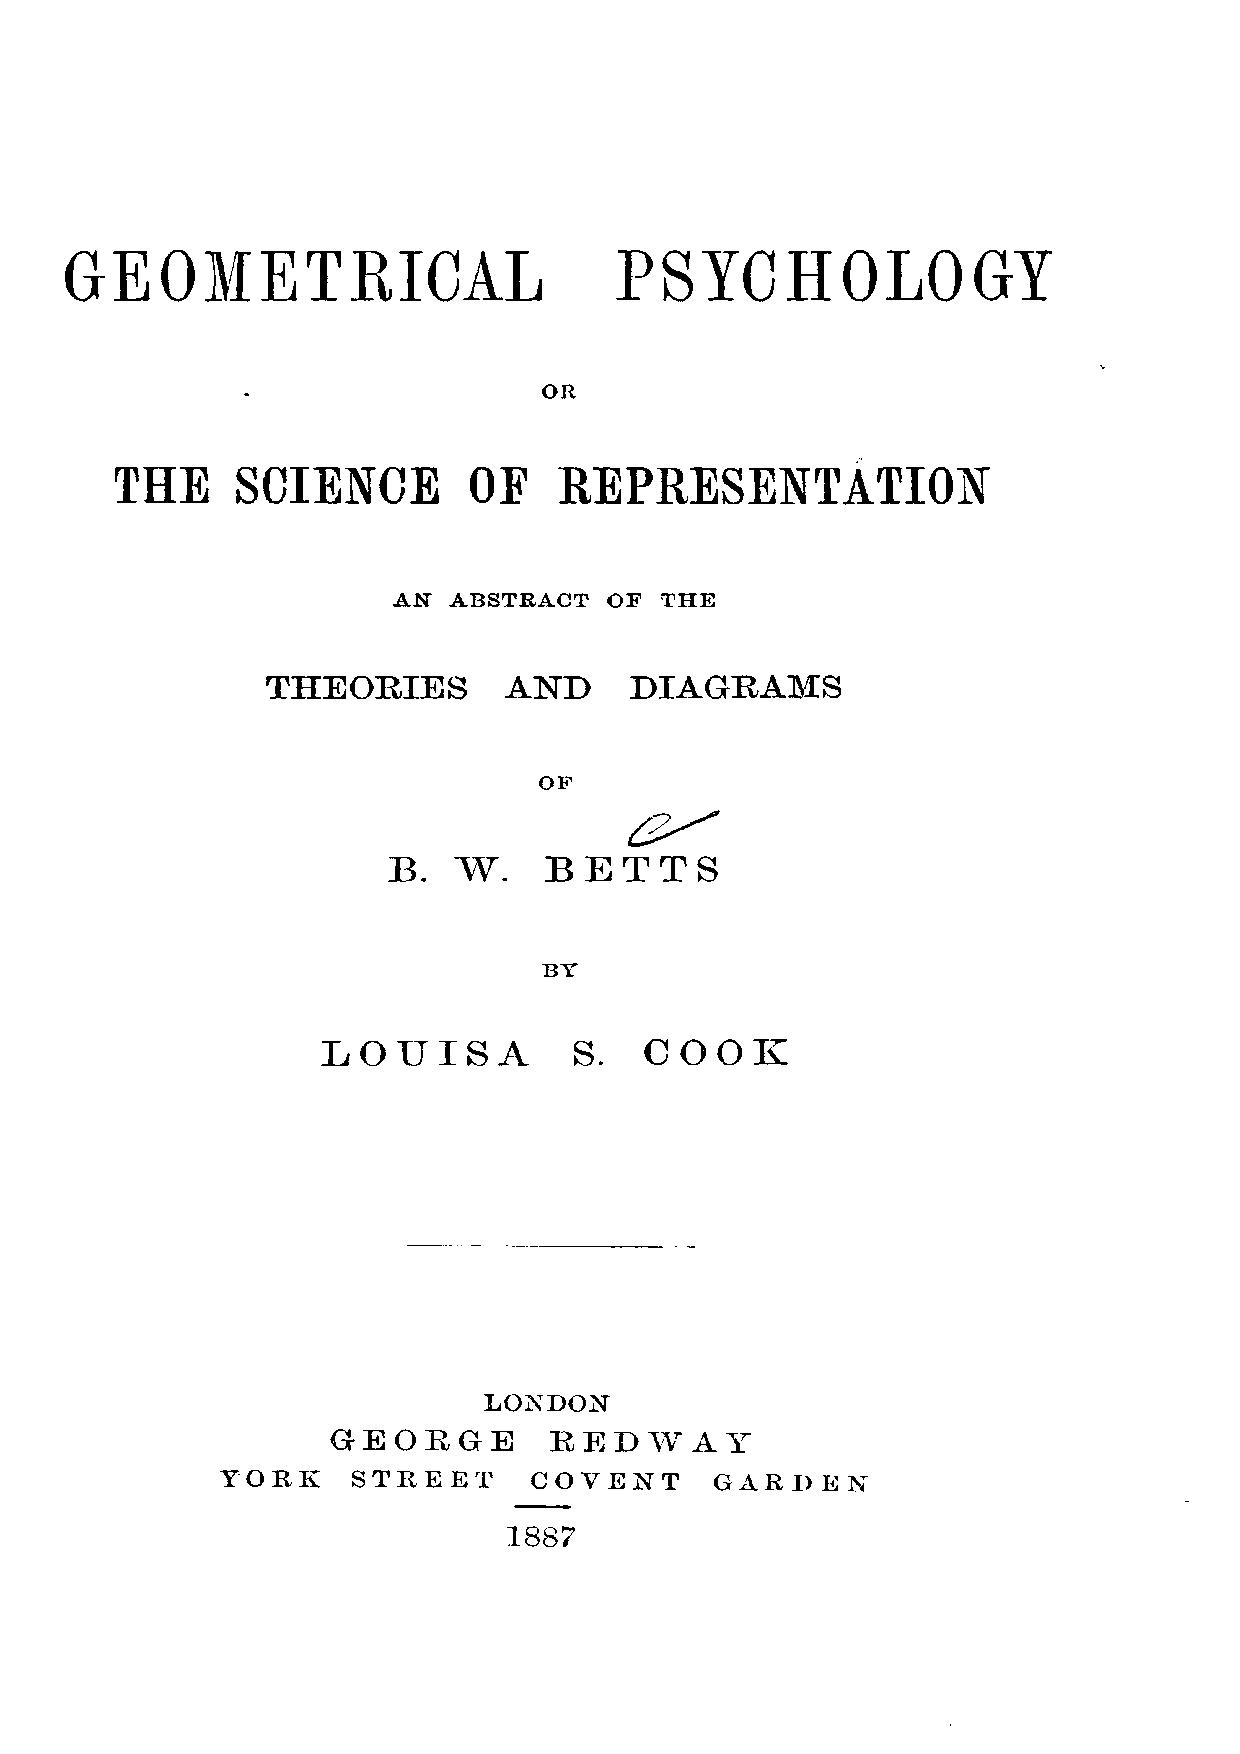author: (317, 960, 789, 1070)
title: (56, 243, 1053, 509)
